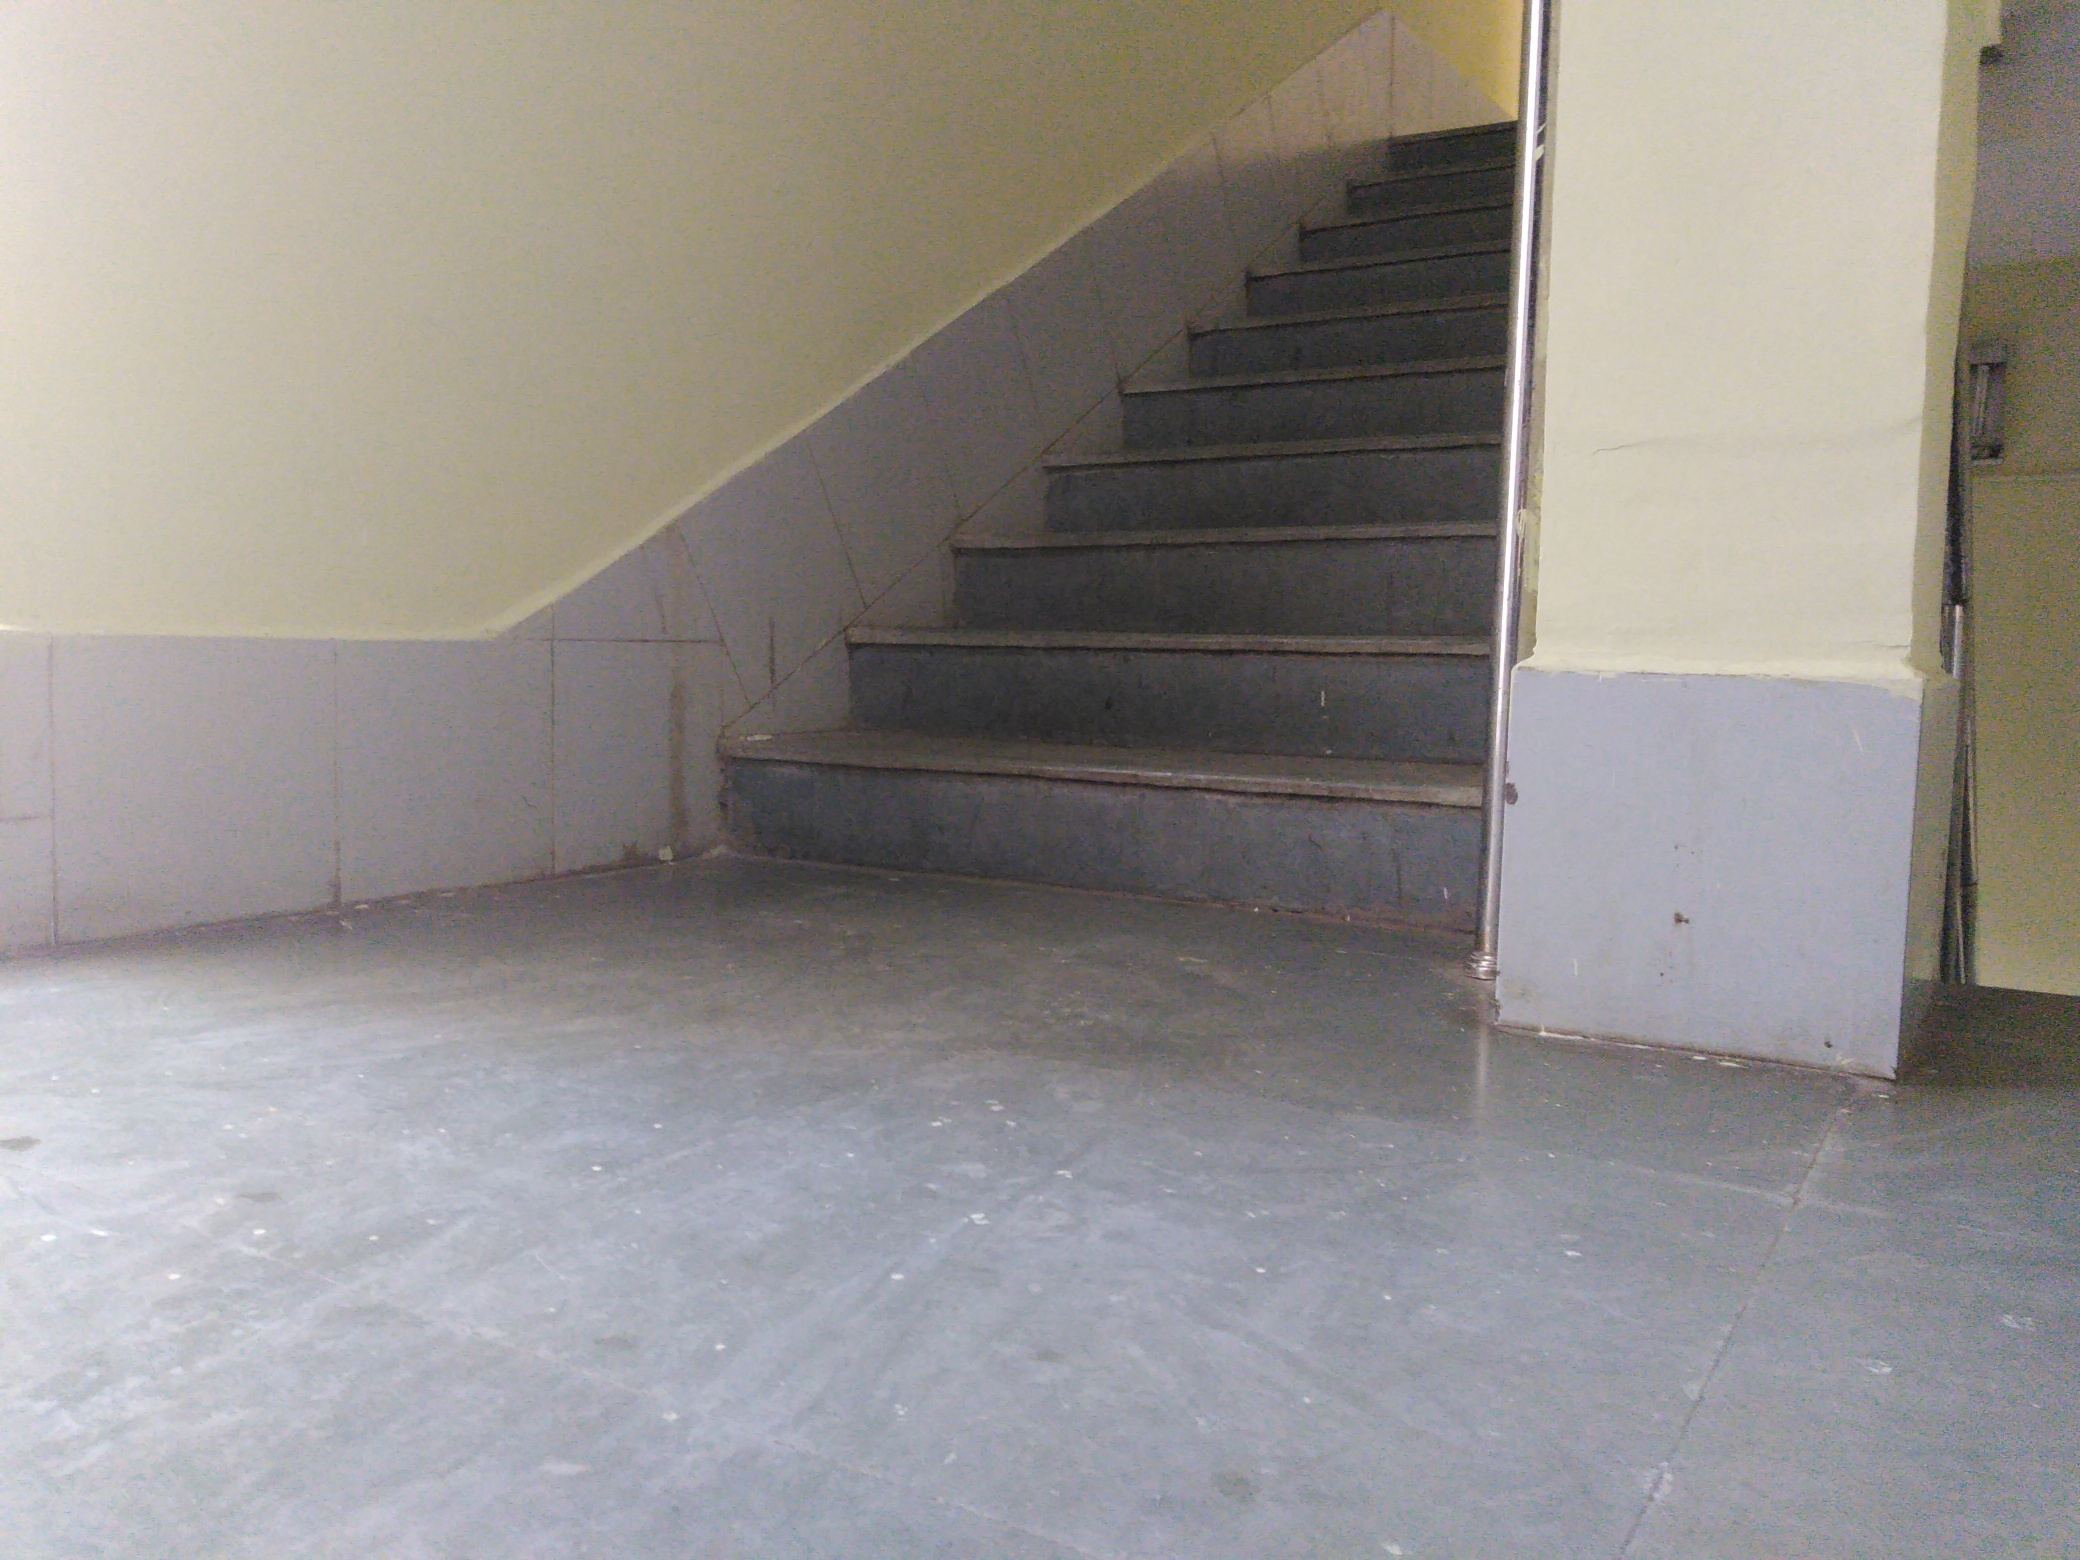stairs_up: (658, 107, 1513, 972)
